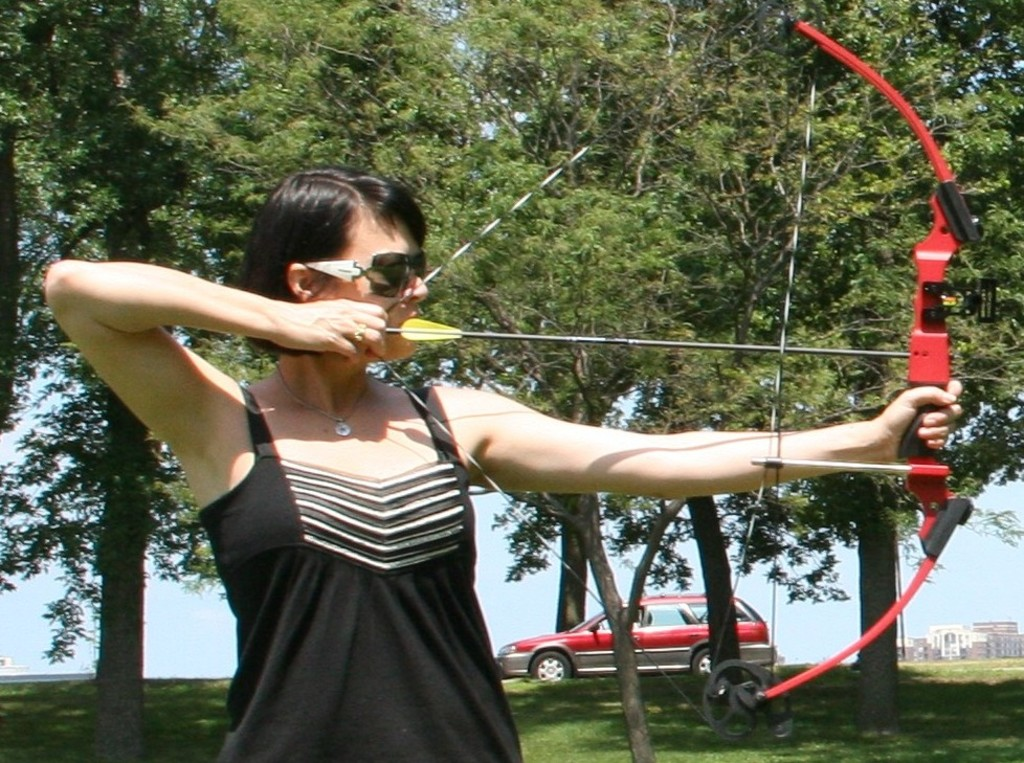Human_hand: (271, 298, 388, 363), (871, 379, 963, 458)
